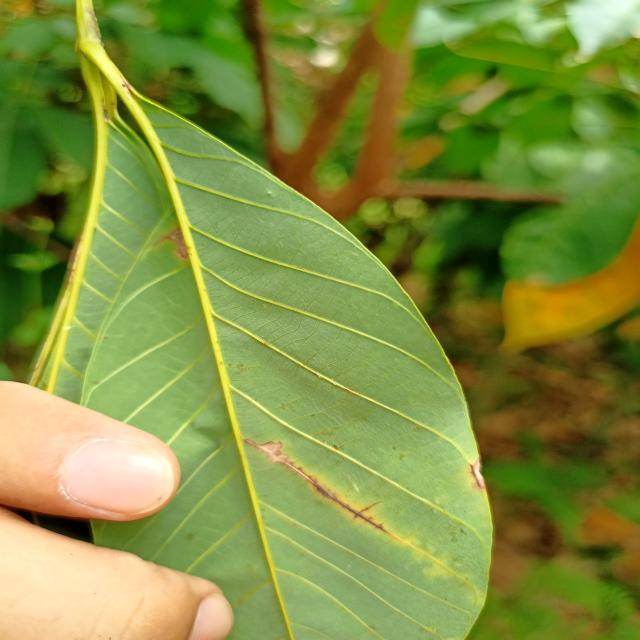Corynespora: (243, 438, 385, 531), (472, 459, 486, 488)
